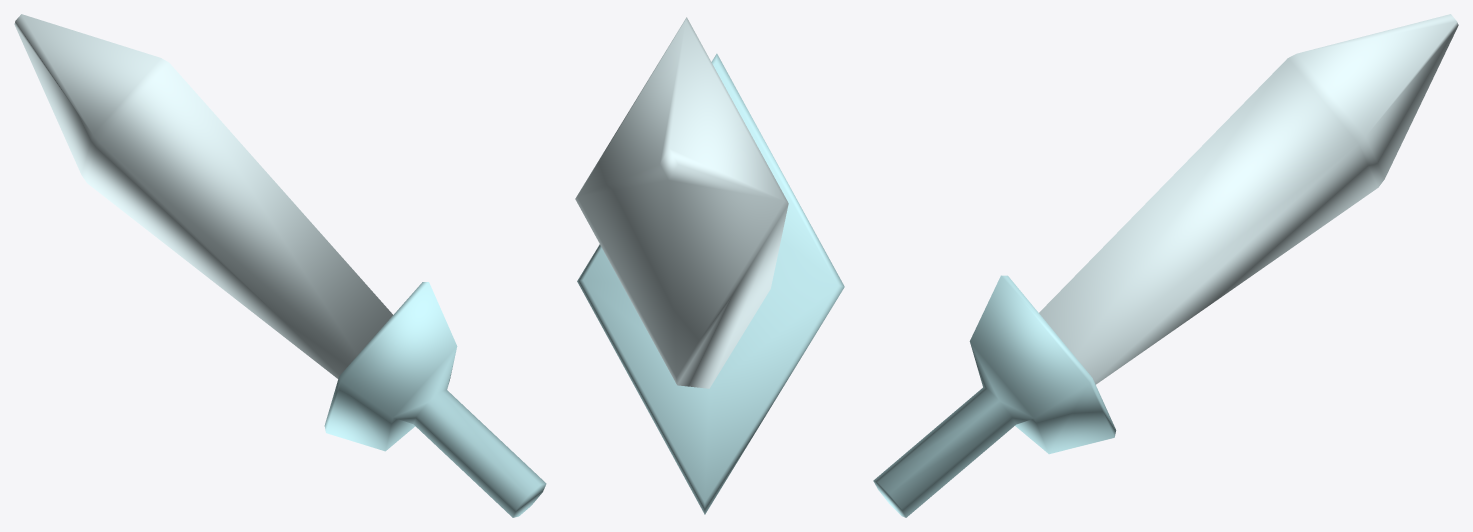
Rendered from sword_low.glb.
The picture shows the model from 3 angles, left to right: view 1: azimuth 30°, elevation 25°; view 2: azimuth 150°, elevation 25°; view 3: azimuth 270°, elevation 25°; orthographic projection. The views are drawn at different scales.
Parts seen in each view (by area): view 1: sword.003; view 2: sword.003; view 3: sword.003.
Part boxes in pixels (<box>): sword.003: <box>14,14,546,517</box>; sword.003: <box>575,17,844,514</box>; sword.003: <box>873,14,1458,517</box>.
Bounding box in the file's own units: 0.4126 × 0.5496 × 0.7617.
Materials: 1 (1 with a texture image).
